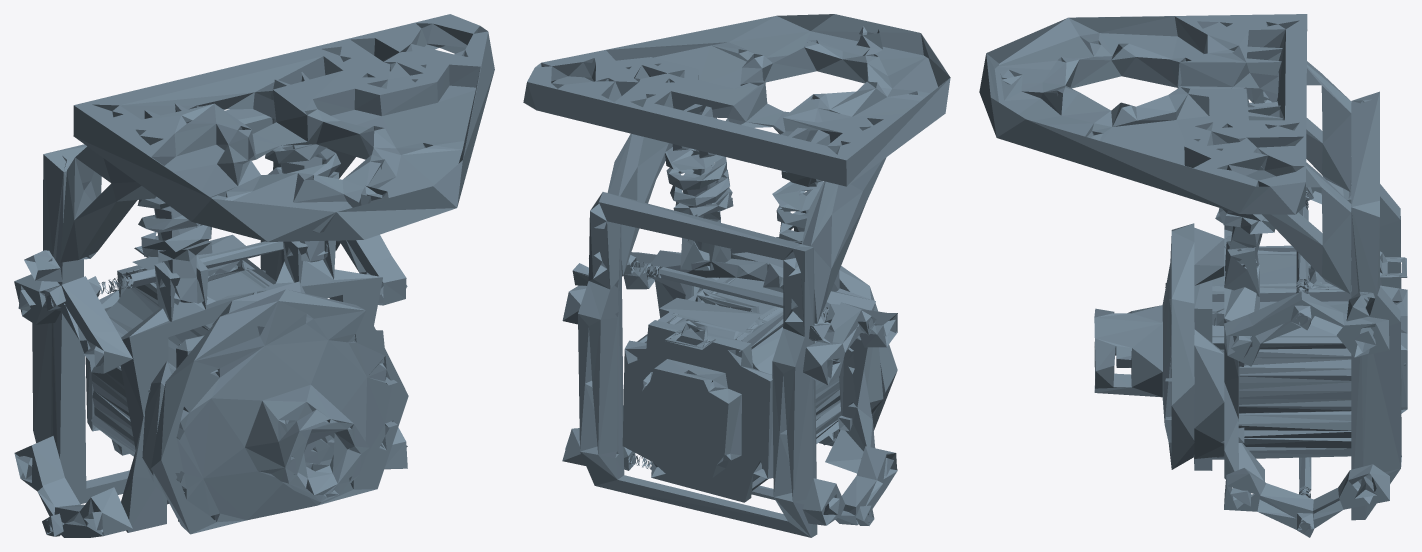
Rendered from steer_FR.dae.
The picture shows the model from 3 angles, left to right: view 1: azimuth 30°, elevation 25°; view 2: azimuth 150°, elevation 25°; view 3: azimuth 270°, elevation 25°; orthographic projection. The views are drawn at different scales.
Visible parts, largest first — view 1: node; view 2: node; view 3: node.
Part boxes in pixels (x1,y1,x2,y2): node: (14, 14, 494, 537); node: (523, 14, 950, 537); node: (979, 14, 1407, 537).
Bounding box in the file's own units: 0.3082 × 0.3014 × 0.3062.
